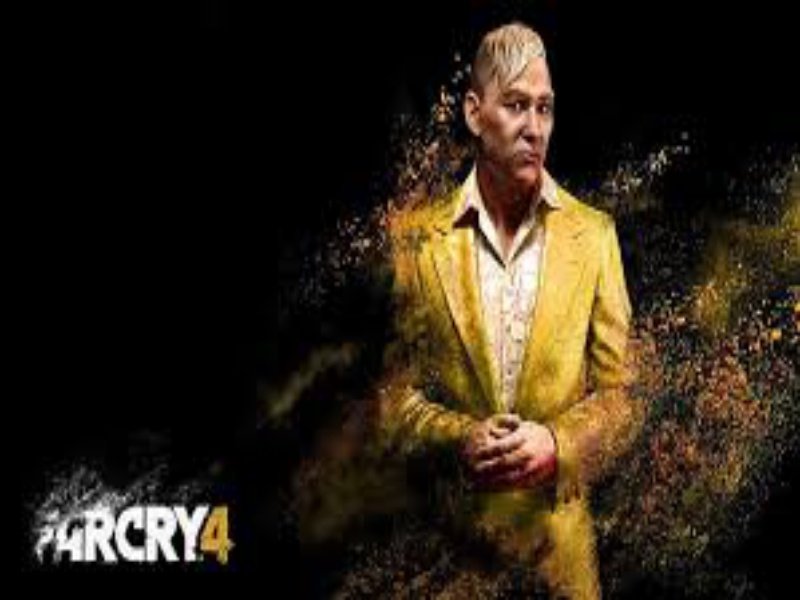TsisyArotava: (446, 17, 567, 191)
